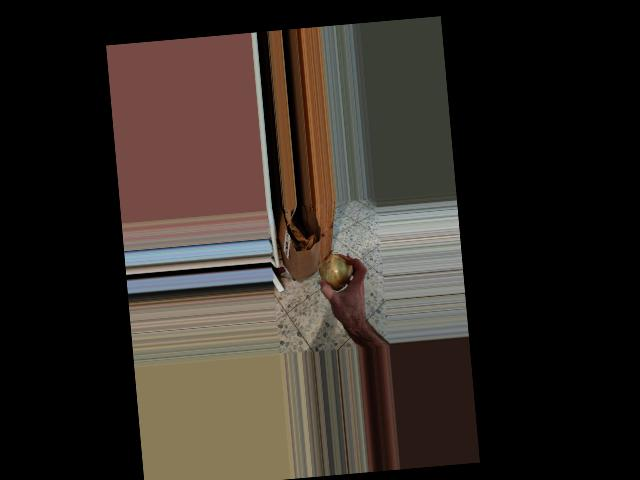onion: (315, 248, 356, 291)
